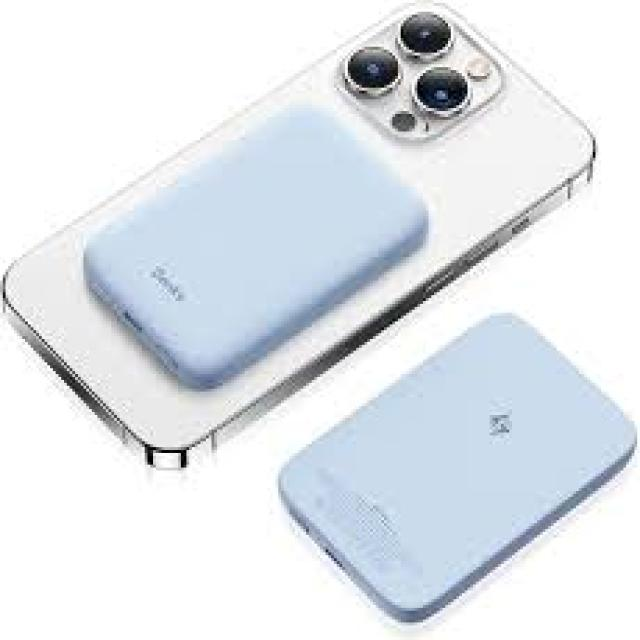power_bank: (270, 307, 640, 634), (83, 103, 431, 397)
